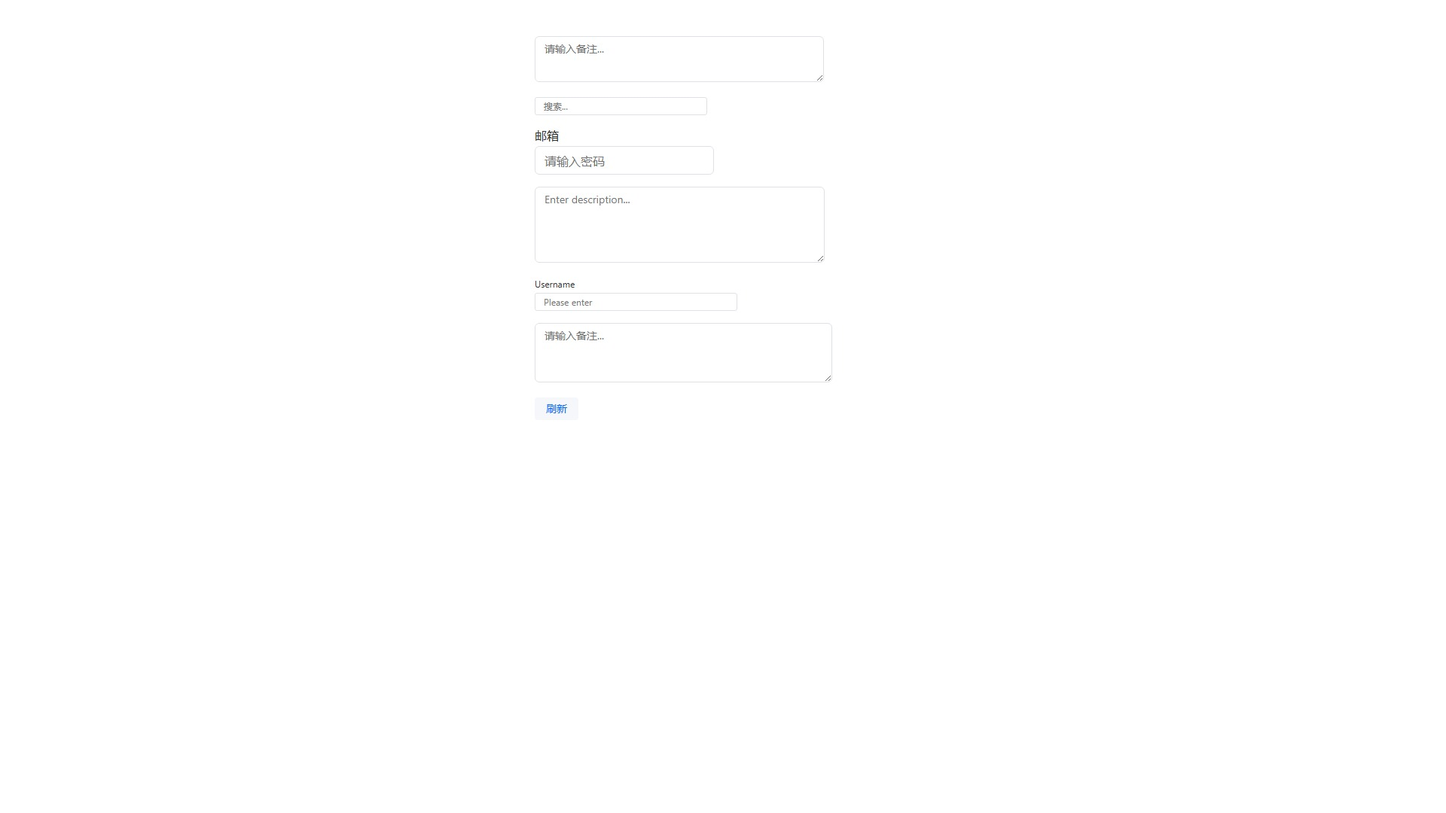button: (535, 397, 578, 420)
input: (535, 146, 714, 175), (535, 293, 737, 311), (535, 97, 707, 115)
textarea: (535, 187, 825, 263), (535, 323, 832, 382), (535, 36, 824, 82)
